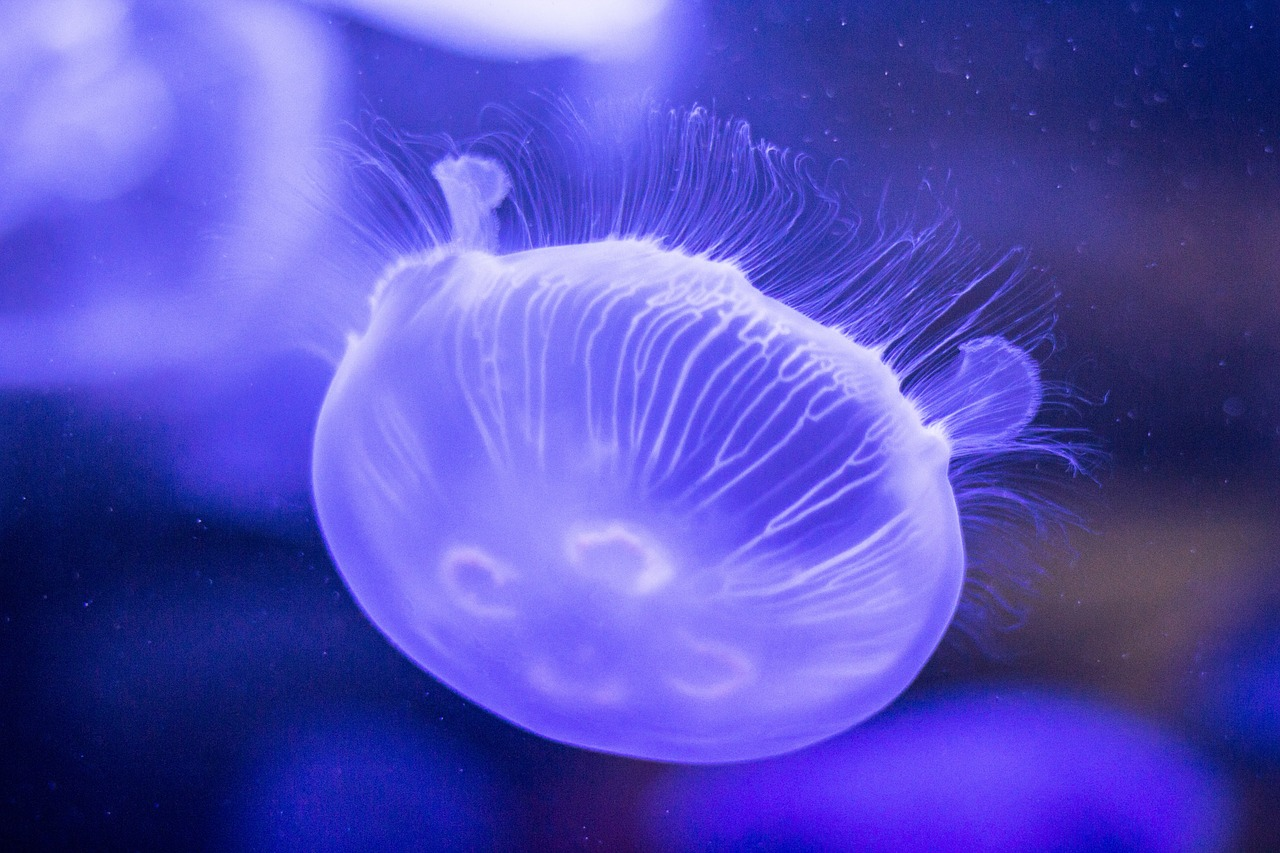jellyfish: (269, 95, 1071, 788)
